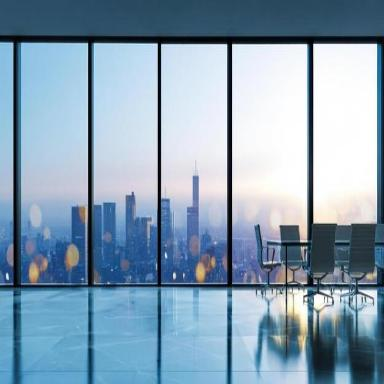glass_panel: (232, 45, 307, 283), (21, 43, 88, 284), (161, 44, 228, 283), (94, 44, 158, 284), (314, 44, 378, 282), (0, 43, 14, 284)
